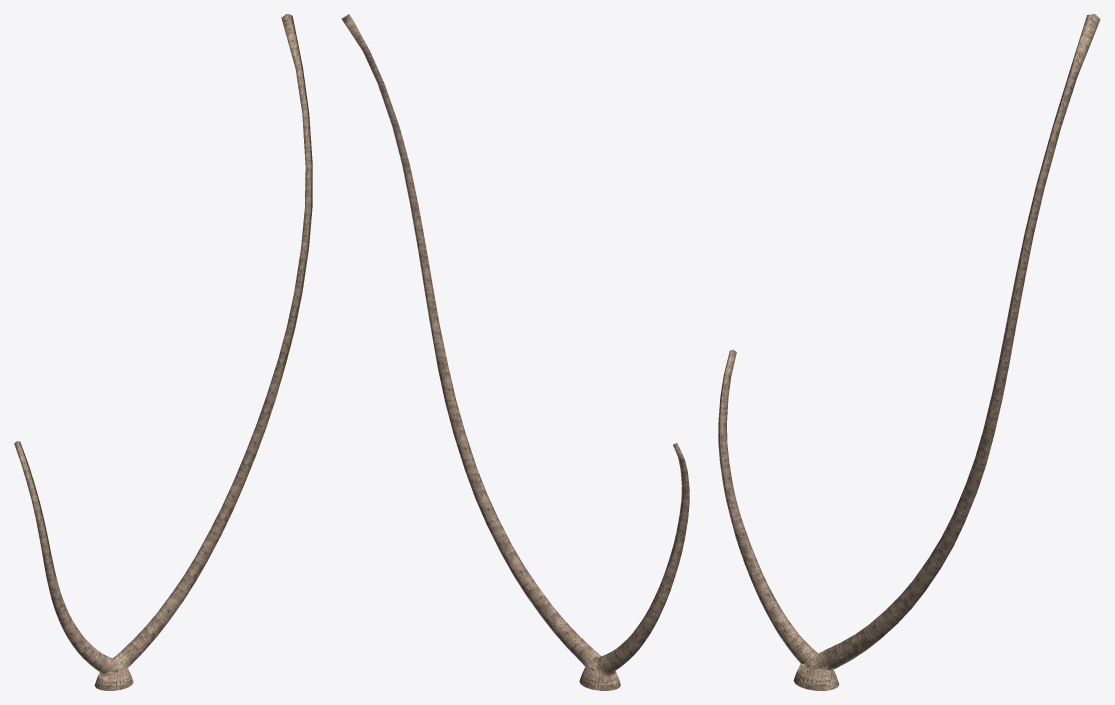
The model's file is m_palm_p2_18_trunk_0_lev2.glb.
The picture shows the model from 3 angles, left to right: view 1: azimuth 30°, elevation 25°; view 2: azimuth 150°, elevation 25°; view 3: azimuth 330°, elevation 25°; orthographic projection. The views are drawn at different scales.
Parts seen in each view (by area): view 1: m_palm_p2_18_trunk_0_lev2; view 2: m_palm_p2_18_trunk_0_lev2; view 3: m_palm_p2_18_trunk_0_lev2.
Part boxes in pixels (x1,y1,x2,y2): m_palm_p2_18_trunk_0_lev2: [14, 14, 312, 690]; m_palm_p2_18_trunk_0_lev2: [341, 14, 689, 690]; m_palm_p2_18_trunk_0_lev2: [718, 14, 1100, 690].
Bounding box in the file's own units: 3.7 × 7.11 × 0.9575.
Materials: 1 (1 with a texture image).
